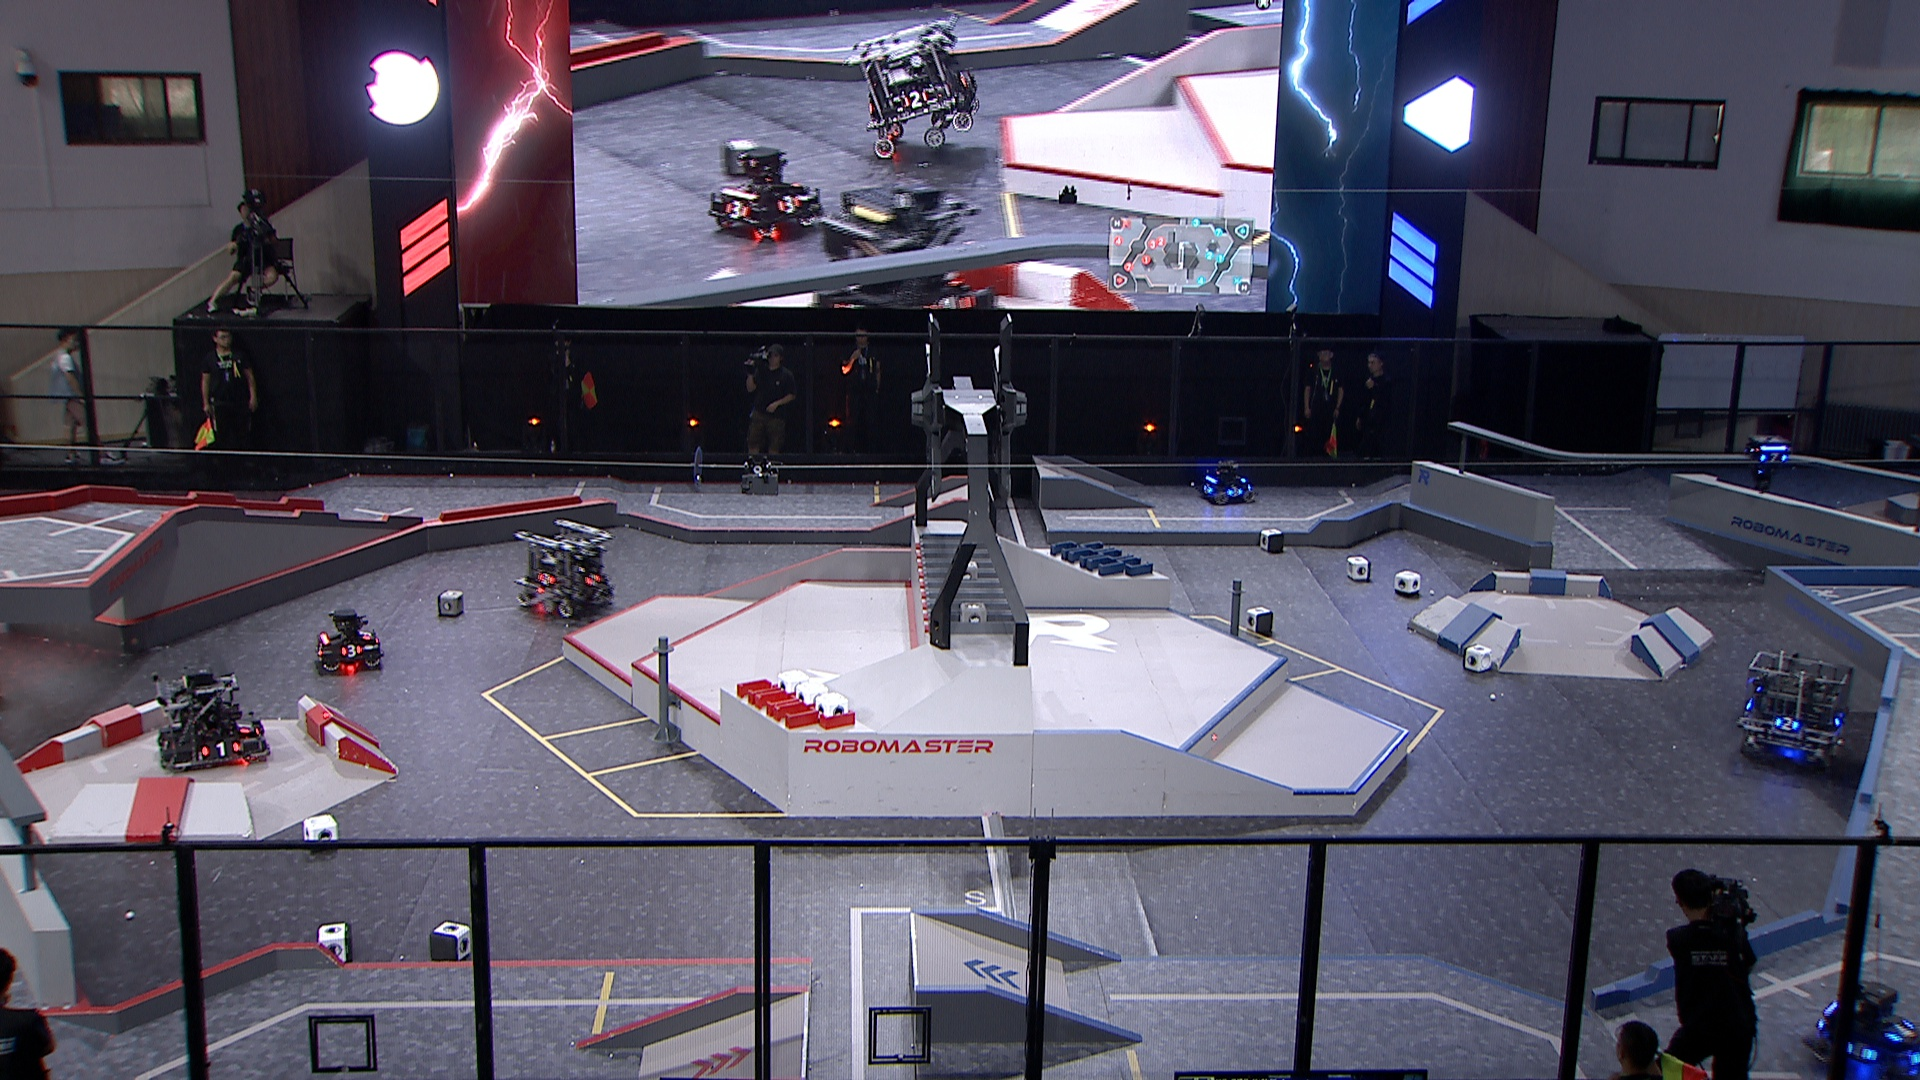armor: (1842, 1040, 1880, 1065), (196, 740, 240, 760), (1887, 1021, 1917, 1044), (1774, 716, 1801, 733), (1760, 451, 1789, 465), (340, 642, 365, 657), (537, 571, 558, 588), (585, 571, 603, 589), (1224, 484, 1244, 498), (235, 721, 257, 733), (315, 641, 327, 659), (357, 628, 372, 642), (1201, 483, 1216, 495)
car: (1731, 647, 1855, 769), (154, 666, 269, 770), (1803, 982, 1920, 1080), (513, 516, 615, 617), (313, 605, 386, 671), (1195, 456, 1258, 506)
ignore: (814, 174, 994, 313), (851, 16, 981, 162), (704, 145, 823, 237)
watcher: (1743, 433, 1793, 491)
